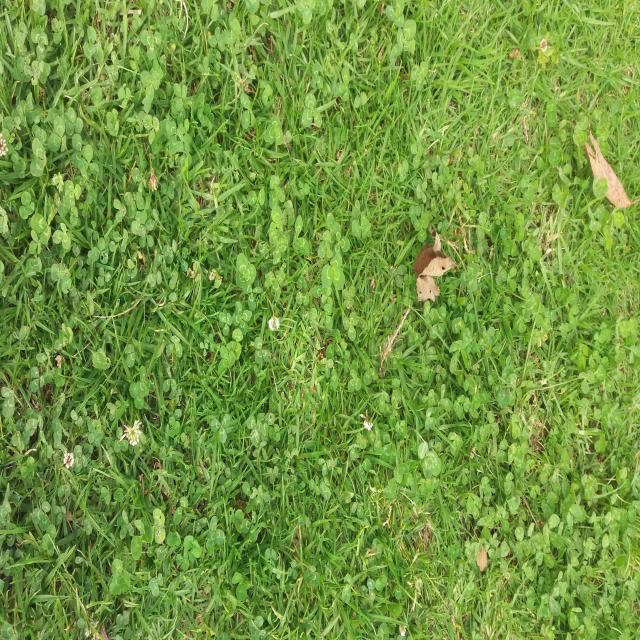Four Leaf Clover: (232, 301, 252, 335), (427, 396, 446, 425)
